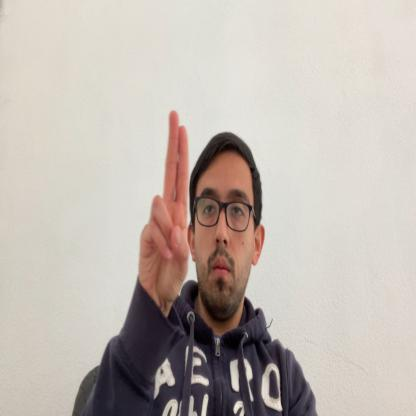U: (139, 111, 190, 309)
